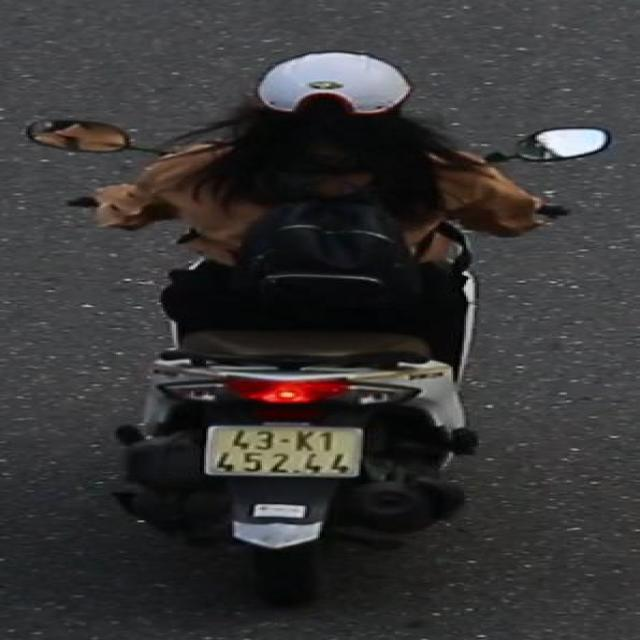LP: (196, 418, 372, 481)
helmet: (243, 46, 421, 171)
